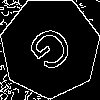G: (25, 22, 83, 83)
